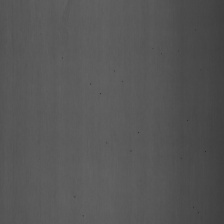inclusion: (82, 73, 94, 89), (97, 86, 104, 102), (102, 136, 111, 148), (109, 63, 117, 74), (202, 145, 208, 158), (136, 126, 143, 137), (126, 146, 133, 156), (184, 116, 190, 127), (73, 191, 78, 201), (79, 213, 85, 221)
